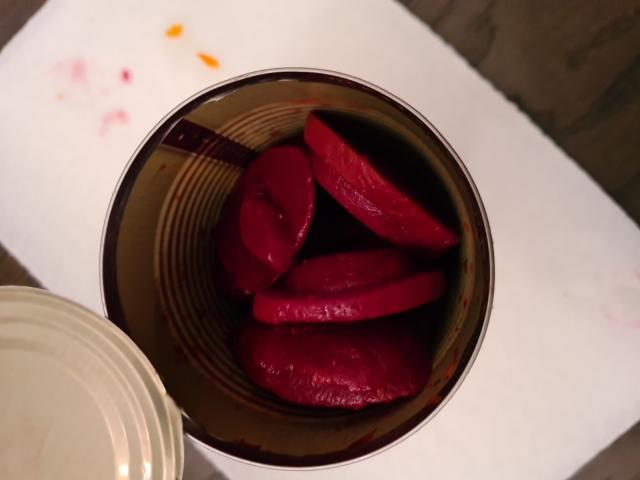kichen waste: (222, 114, 456, 408)
